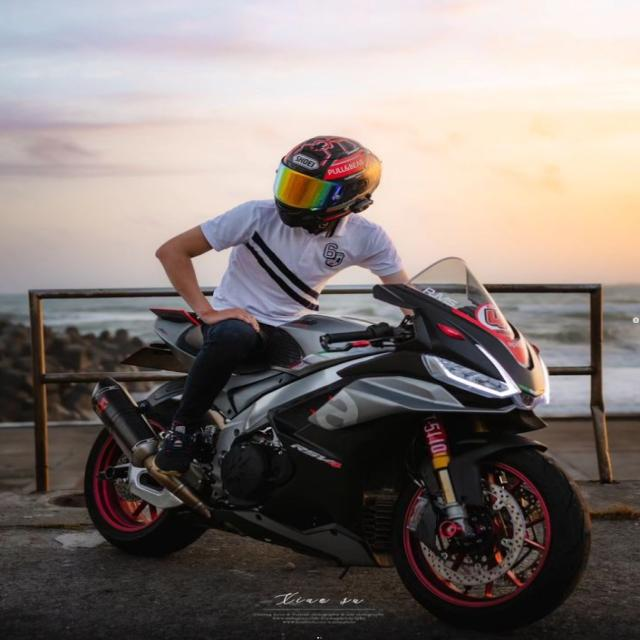helmet: (268, 132, 385, 232)
